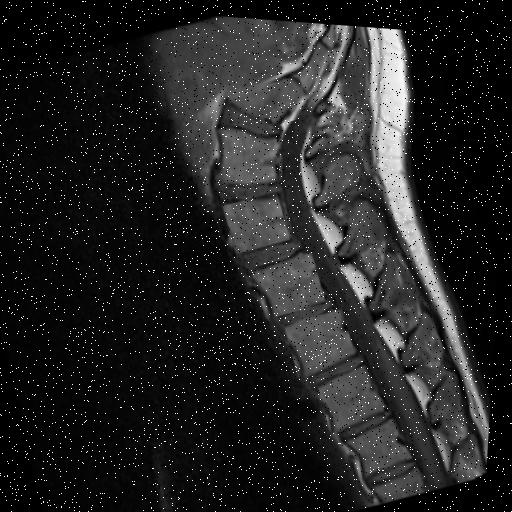L1: (321, 359, 388, 426)
L2: (287, 303, 358, 369)
L3: (255, 247, 327, 311)
L4: (224, 191, 292, 249)
L5: (223, 123, 280, 176)
S1: (228, 72, 304, 118)
